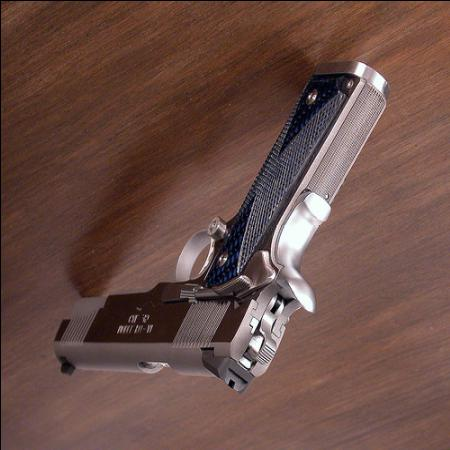Pistol: (49, 54, 387, 396)
